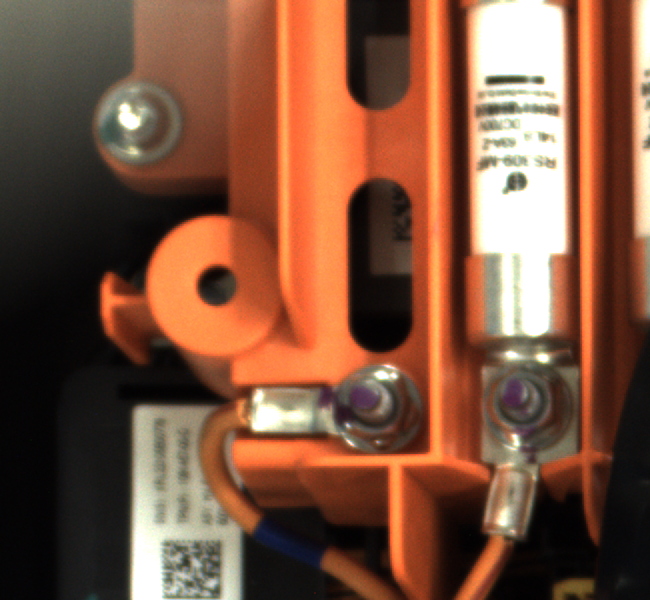screw_m: (98, 77, 190, 171)
screw_s: (471, 354, 584, 463), (328, 361, 422, 449)
